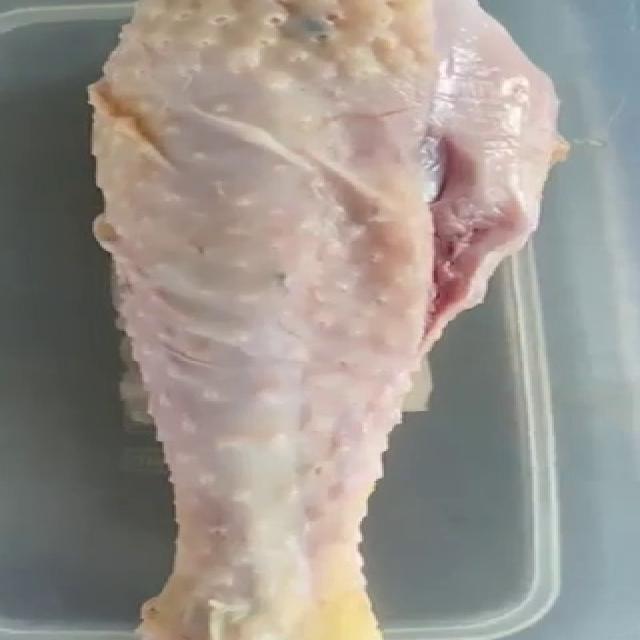chicken: (88, 0, 556, 640)
